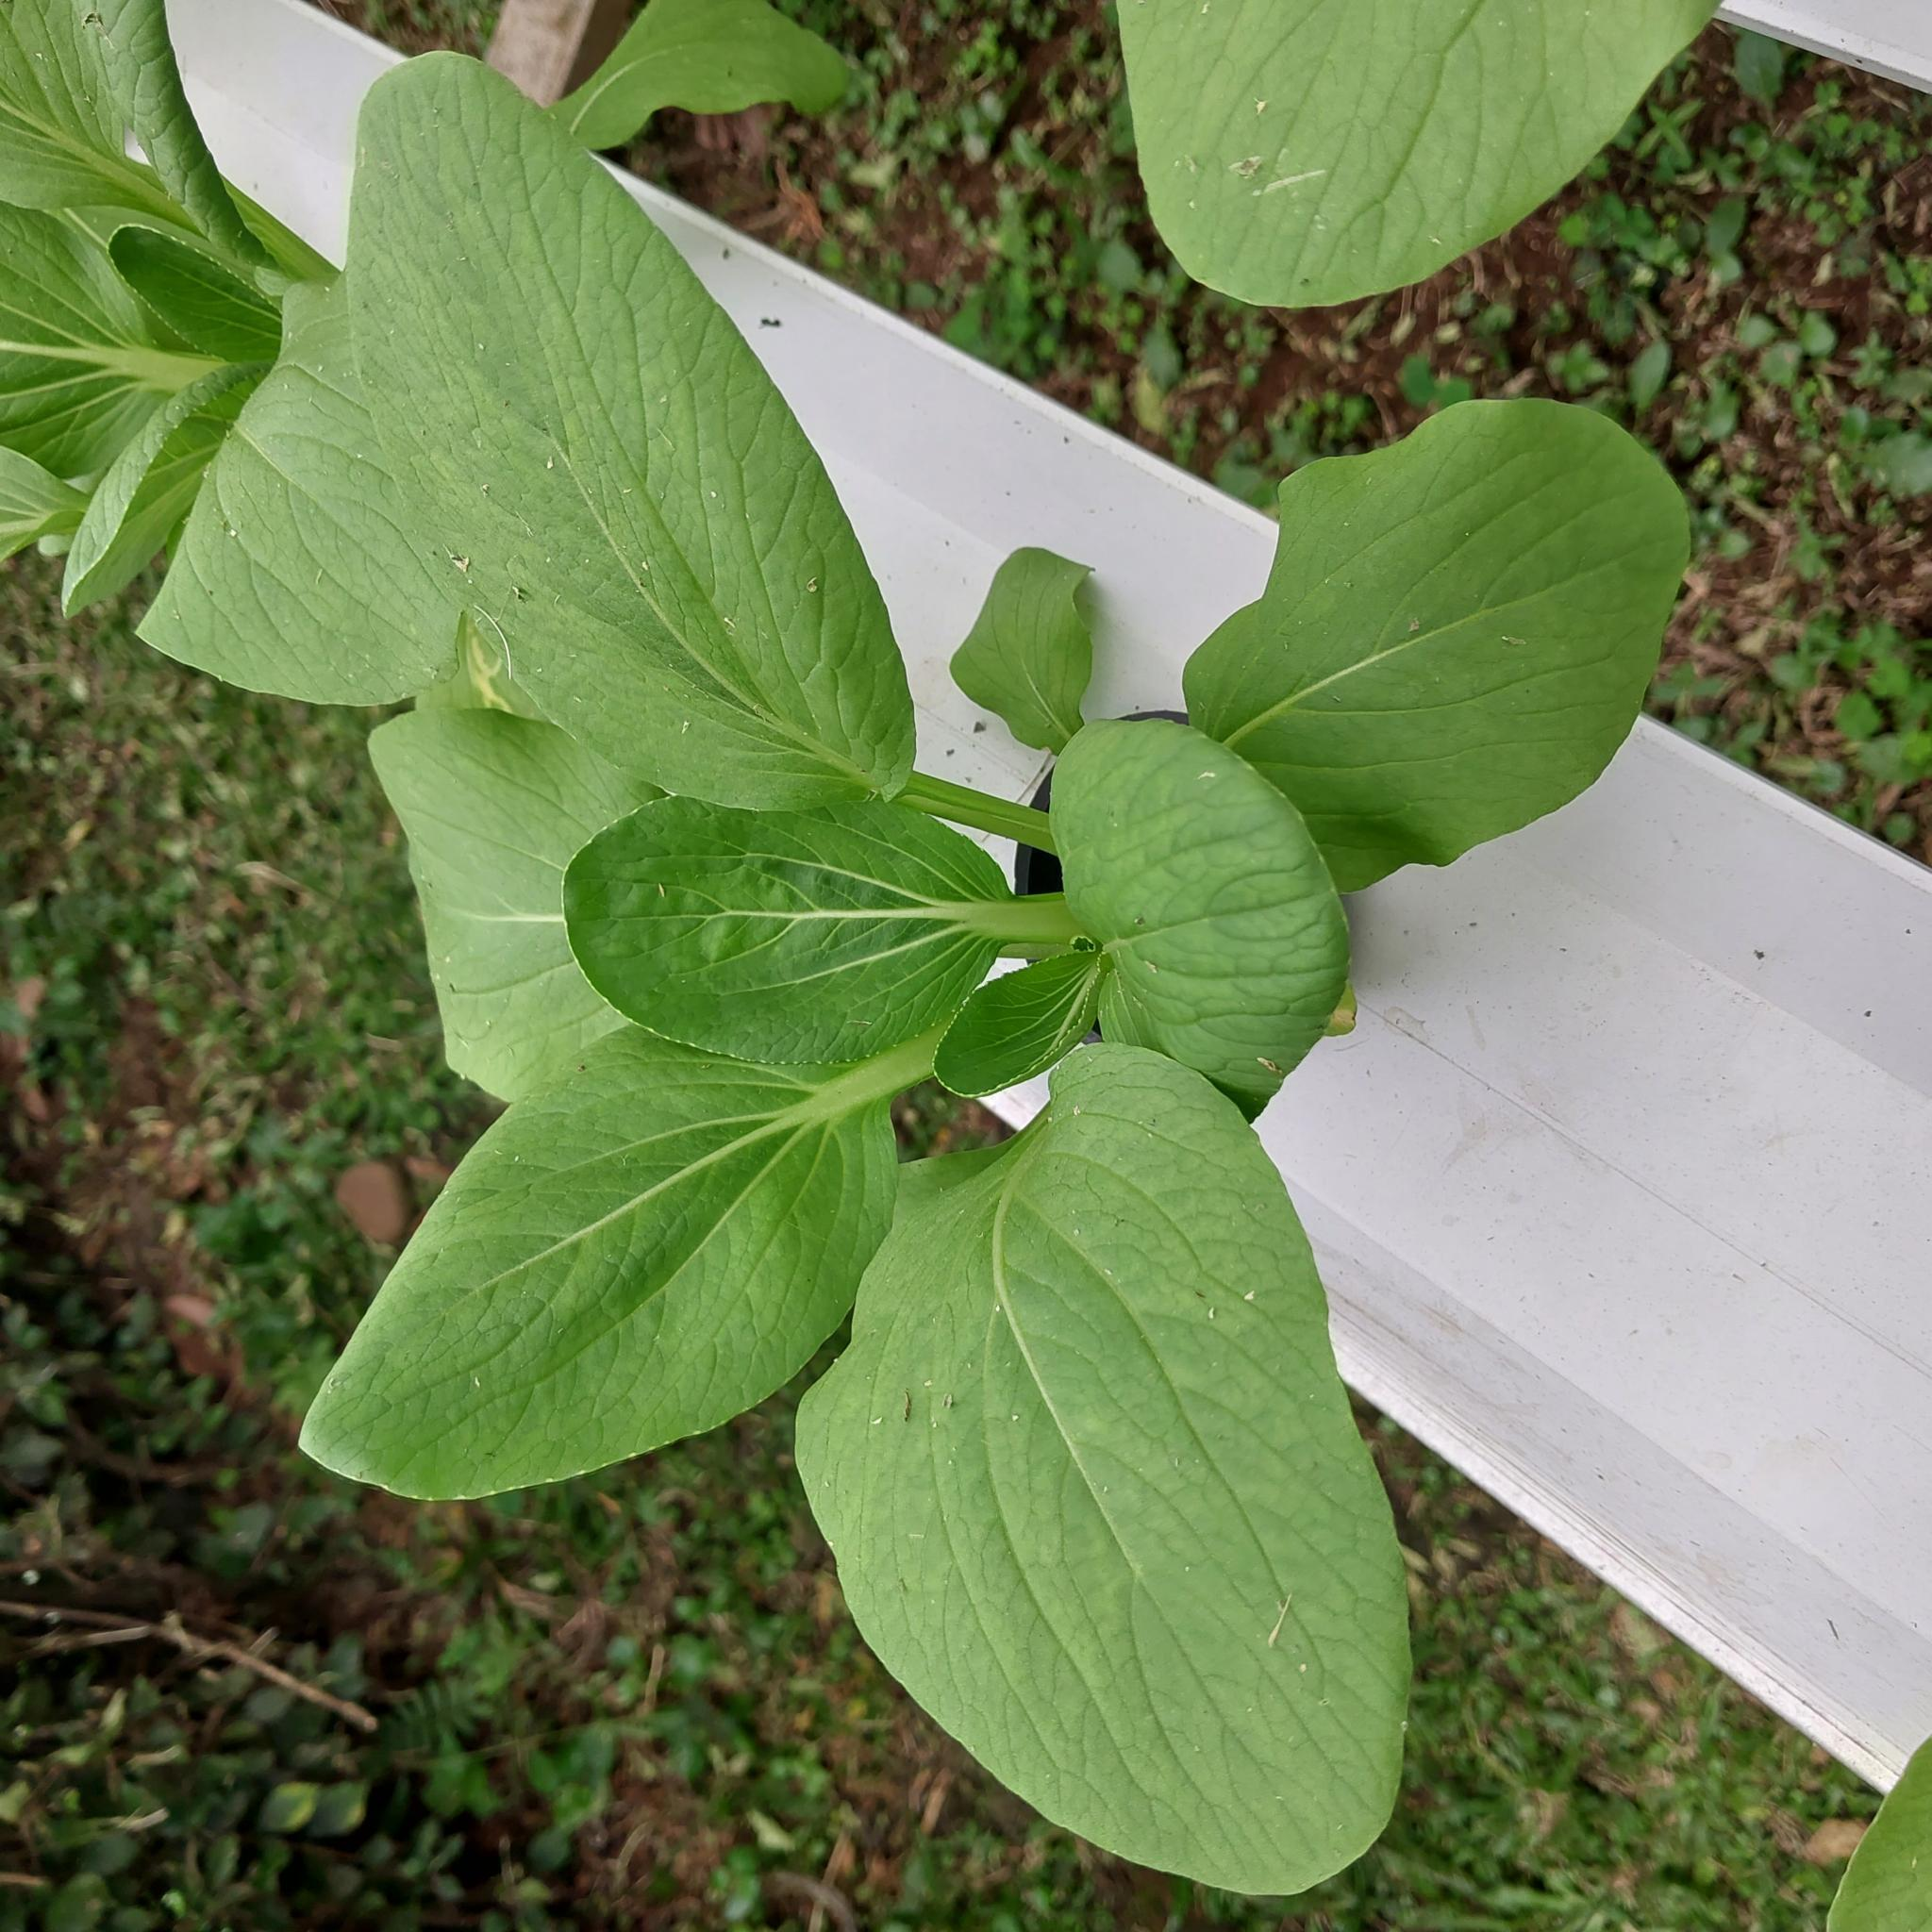Healthy-Pechay: (290, 85, 1566, 1783), (297, 989, 929, 1507), (1178, 391, 1695, 893), (557, 791, 1039, 1081), (366, 694, 651, 1083), (138, 350, 444, 706), (543, 4, 858, 150), (947, 547, 1092, 761), (106, 226, 295, 363), (2, 432, 101, 584), (617, 895, 980, 932), (888, 768, 1044, 846), (913, 890, 1081, 947), (14, 333, 205, 380)
